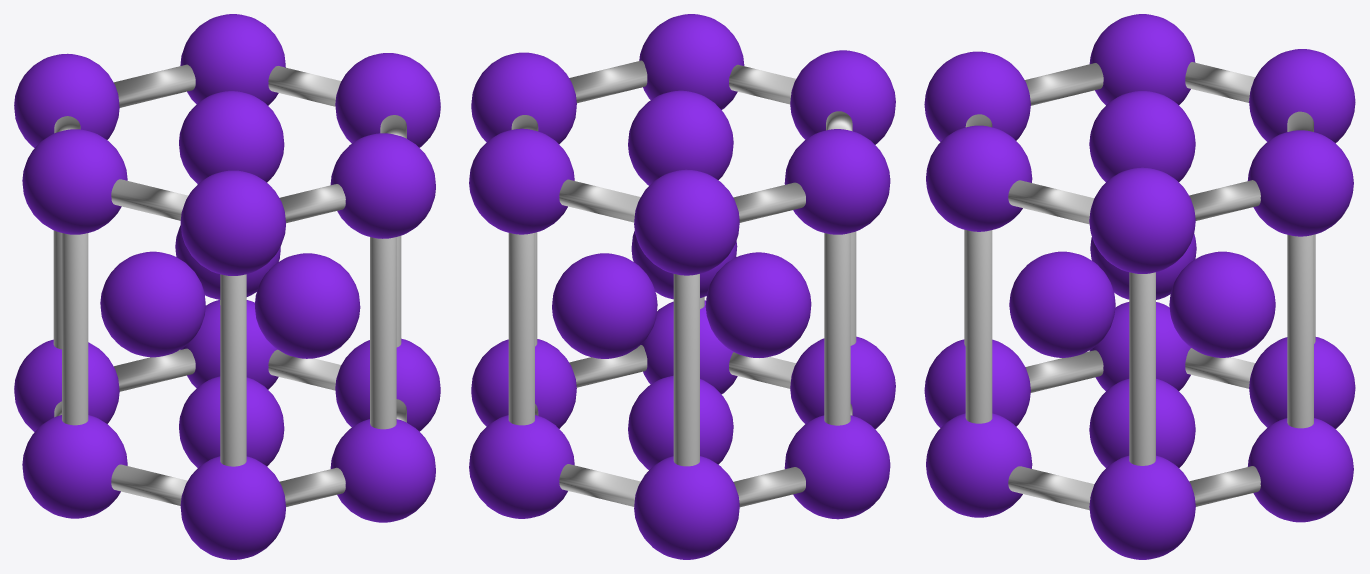
The model's file is Magnesio1.glb.
3 views of the same model, side by side, from view 1: azimuth 30°, elevation 25°; view 2: azimuth 150°, elevation 25°; view 3: azimuth 270°, elevation 25° (orthographic).
Visible parts, largest first — view 1: Sphere.001, Cylinder.002; view 2: Sphere.001, Cylinder.002; view 3: Sphere.001, Cylinder.002.
Boxes of the visible parts, x1,y1,x2,y2 form: Sphere.001: (14, 14, 440, 559); Cylinder.002: (53, 64, 406, 506); Sphere.001: (469, 14, 895, 559); Cylinder.002: (508, 60, 856, 507); Sphere.001: (924, 14, 1355, 559); Cylinder.002: (964, 62, 1315, 510).
Size of the model in its own units: 3.53 by 3.17 by 3.24.
